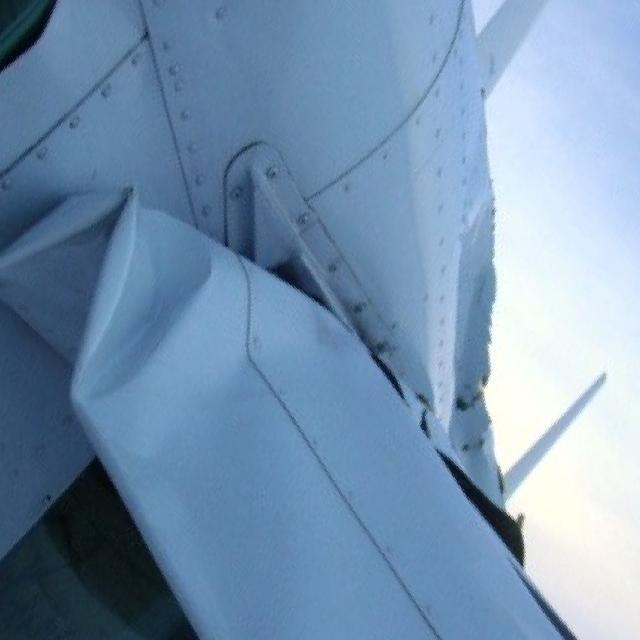dent: (2, 186, 217, 406)
